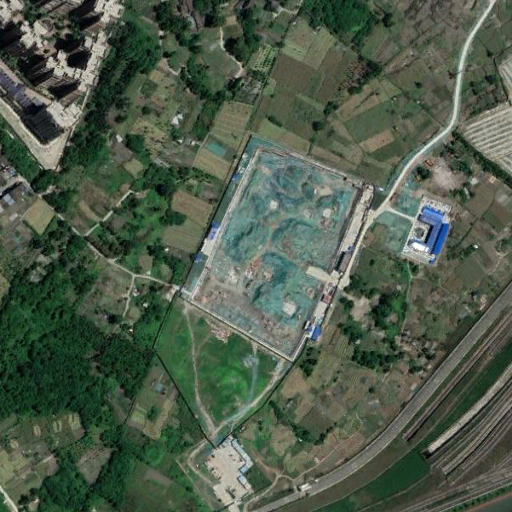cw: (185, 144, 363, 369), (367, 183, 419, 261)
